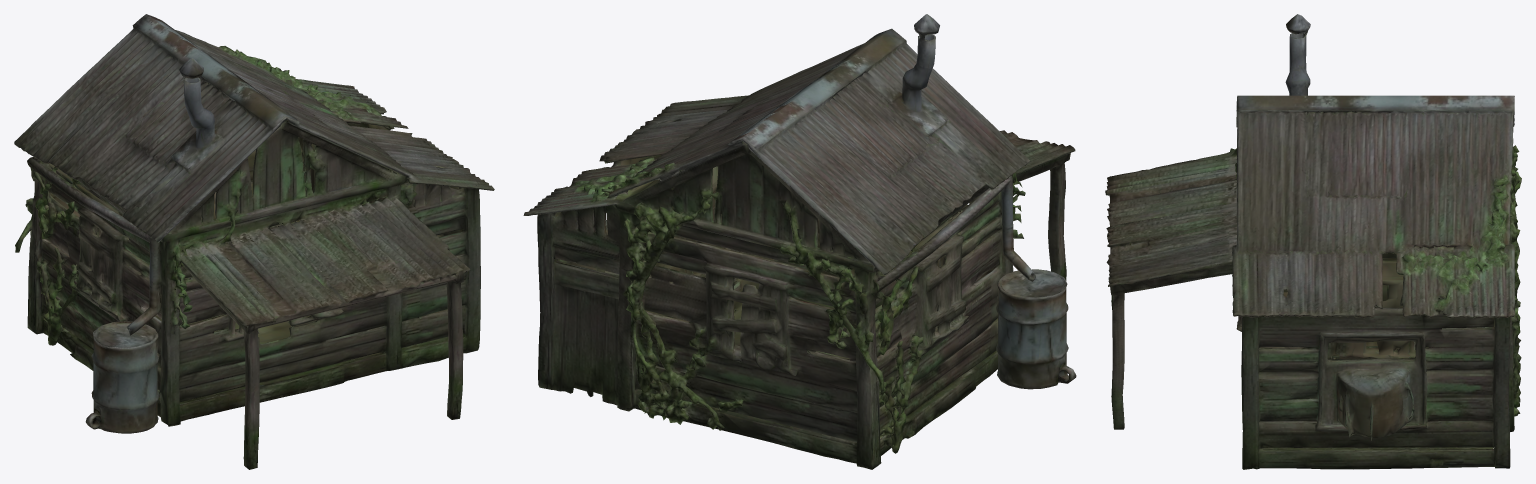
The model's file is unit_shack.glb.
3 views of the same model, side by side, from view 1: azimuth 30°, elevation 25°; view 2: azimuth 150°, elevation 25°; view 3: azimuth 270°, elevation 25° (orthographic). The views are drawn at different scales.
Parts seen in each view (by area): view 1: Mesh_0; view 2: Mesh_0; view 3: Mesh_0.
Boxes of the visible parts, <box> form: Mesh_0: <box>14,14,494,469</box>; Mesh_0: <box>523,14,1076,469</box>; Mesh_0: <box>1105,14,1521,469</box>.
Size of the model in its own units: 6.44 by 5 by 5.67.
1 material, 1 textured.
